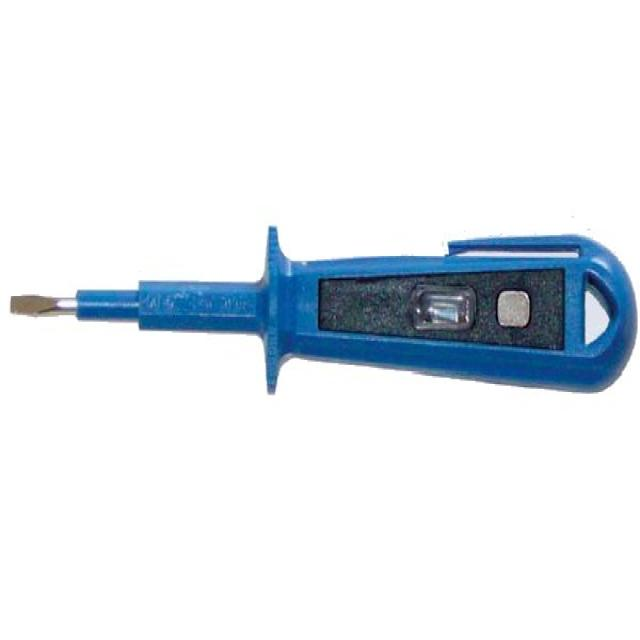screw_driver: (12, 227, 637, 398)
